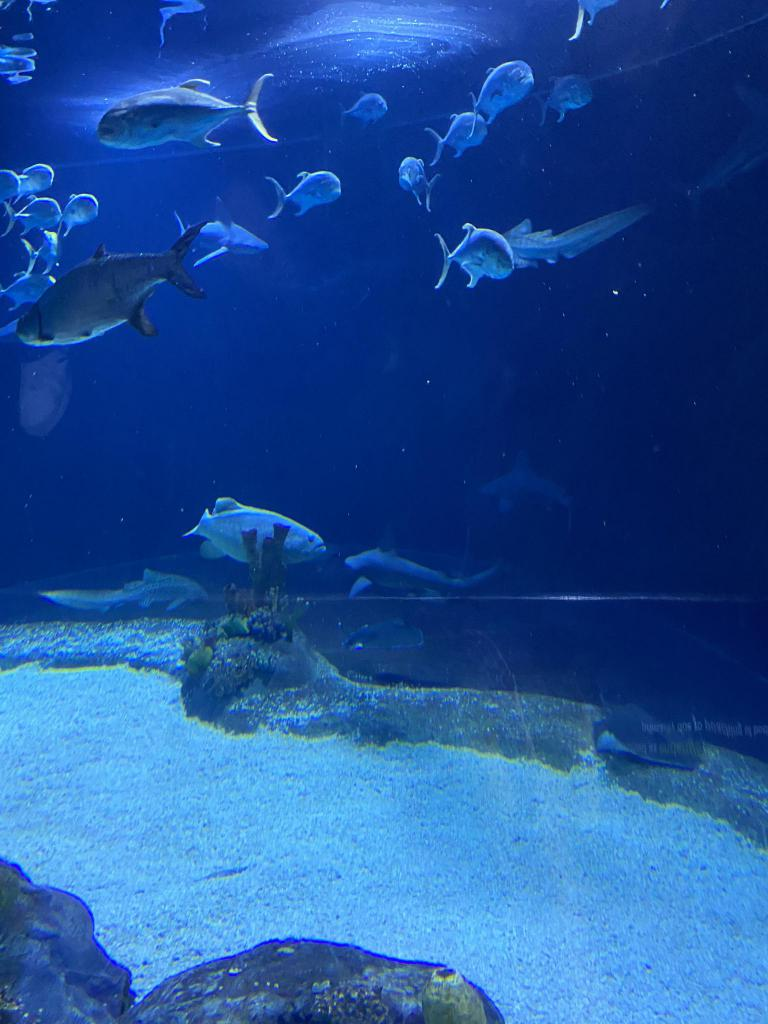fish: (15, 220, 207, 346), (95, 72, 279, 150), (182, 496, 324, 564), (433, 224, 513, 290), (471, 60, 533, 124), (270, 170, 342, 222), (424, 112, 486, 164), (0, 194, 61, 237), (536, 76, 592, 122), (0, 271, 60, 311), (567, 0, 617, 43), (400, 156, 437, 212), (20, 231, 62, 275), (57, 194, 98, 234), (15, 164, 54, 204), (342, 94, 386, 126), (0, 169, 21, 203)
shark: (668, 84, 768, 220), (346, 524, 502, 598), (483, 202, 649, 268), (38, 568, 208, 610), (481, 449, 569, 529), (173, 196, 267, 266)
stingray: (341, 618, 423, 650)
